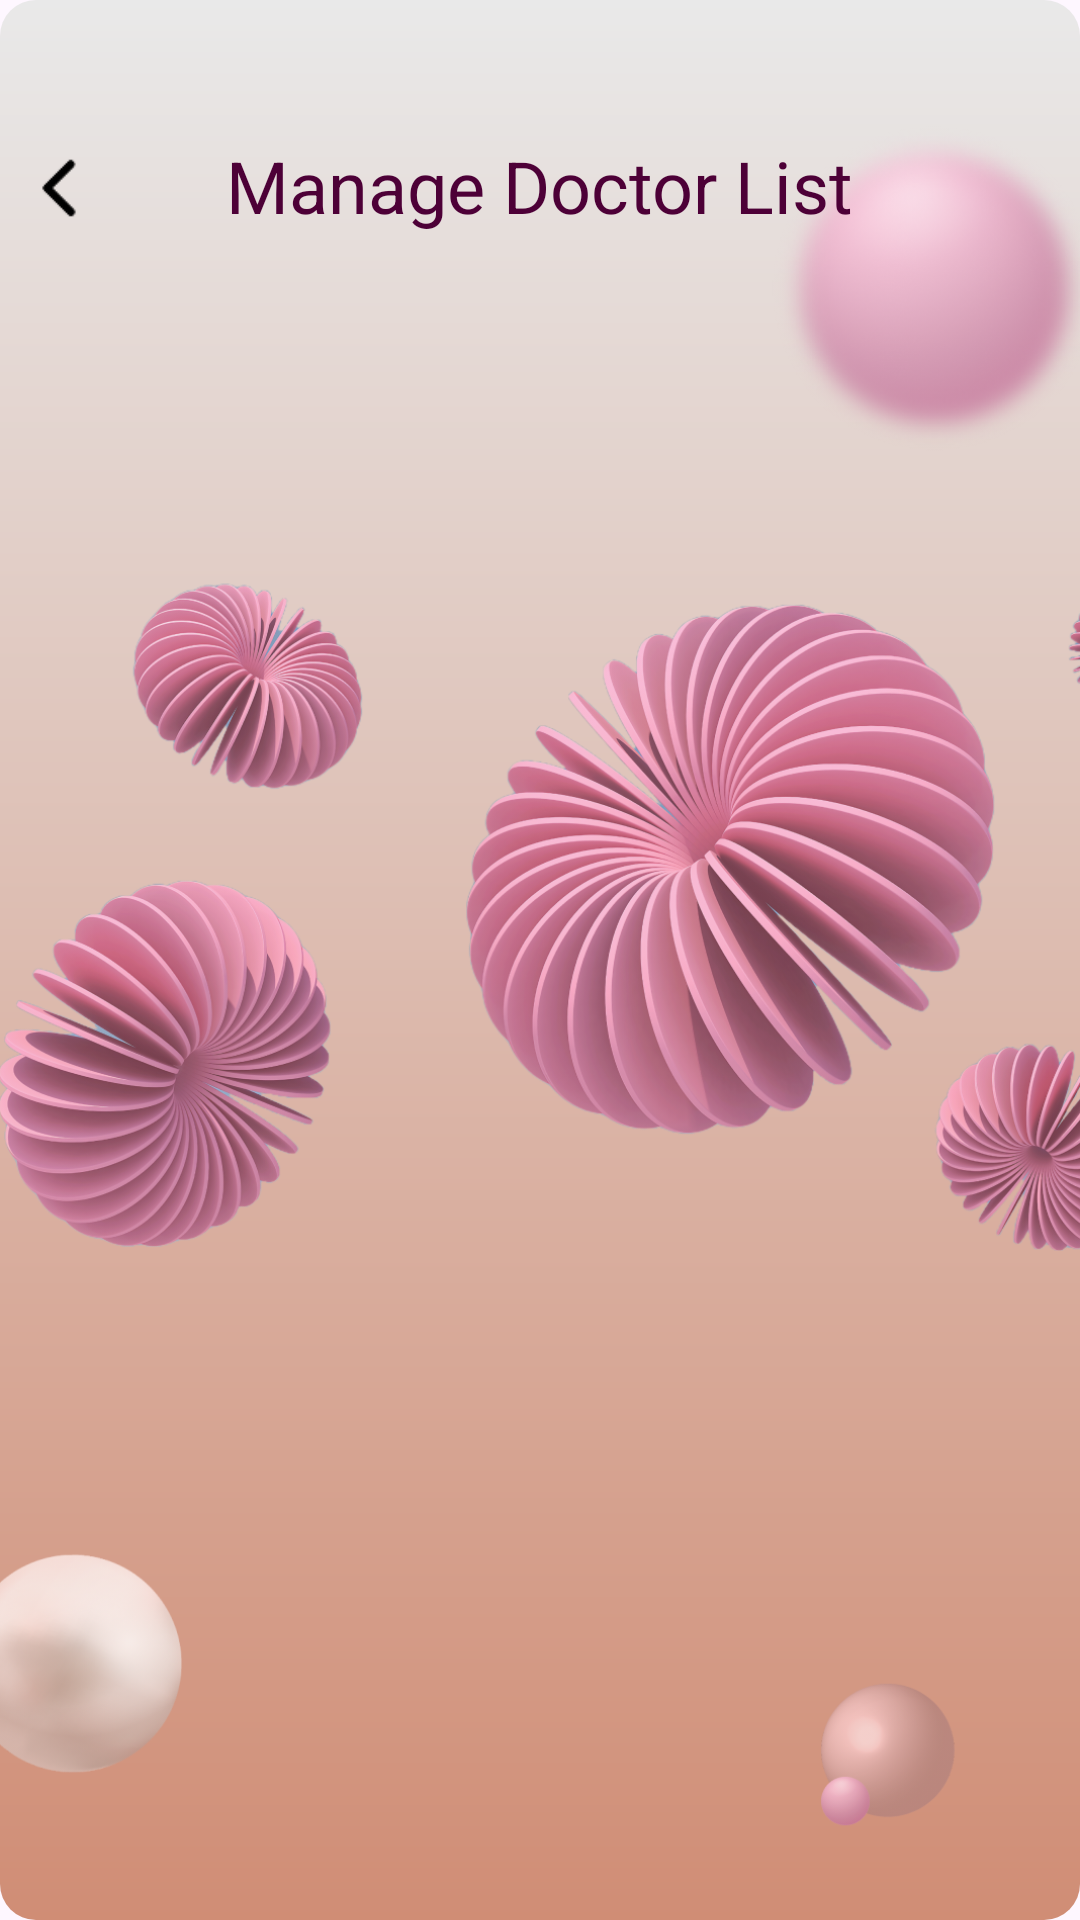

Icons on this 1080×1920 Android screen, each with its box as (x1, y1, x2, y2):
Back: (42, 159, 76, 217)
